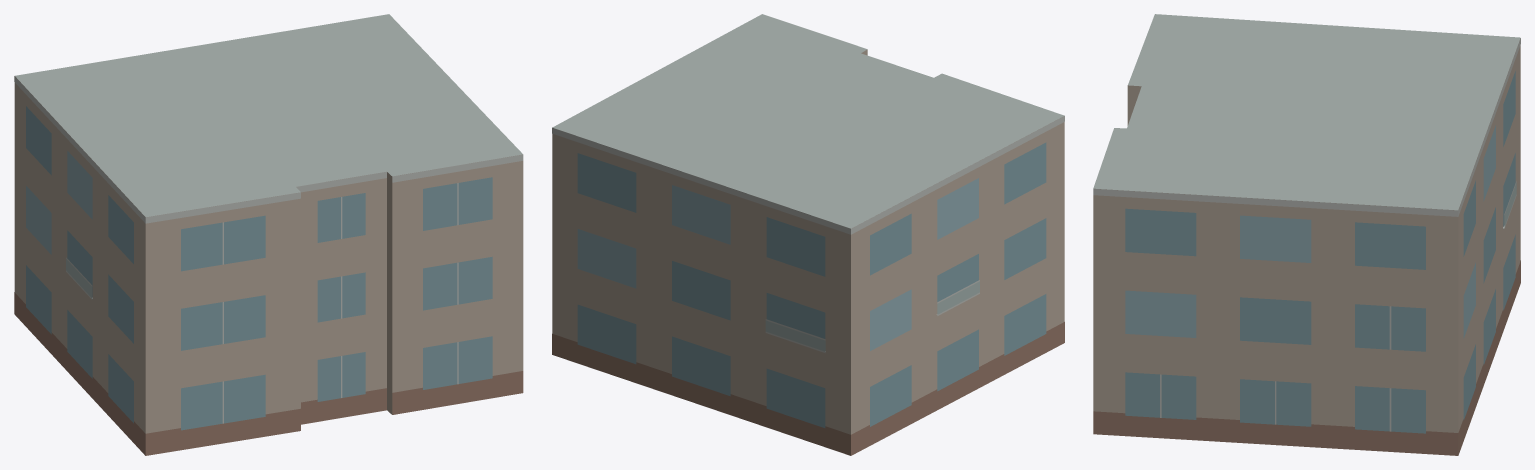
The model's file is survey-upis-32681517.glb.
The picture shows the model from 3 angles, left to right: view 1: azimuth 30°, elevation 25°; view 2: azimuth 150°, elevation 25°; view 3: azimuth 270°, elevation 25°; orthographic projection. The views are drawn at different scales.
Visible parts, largest first — view 1: survey-upis-32681517.tmp; view 2: survey-upis-32681517.tmp; view 3: survey-upis-32681517.tmp.
Part boxes in pixels (x1,y1,x2,y2): survey-upis-32681517.tmp: [14, 14, 523, 455]; survey-upis-32681517.tmp: [552, 14, 1064, 455]; survey-upis-32681517.tmp: [1093, 14, 1520, 455].
Size of the model in its own units: 15.7 by 9.15 by 14.45.
